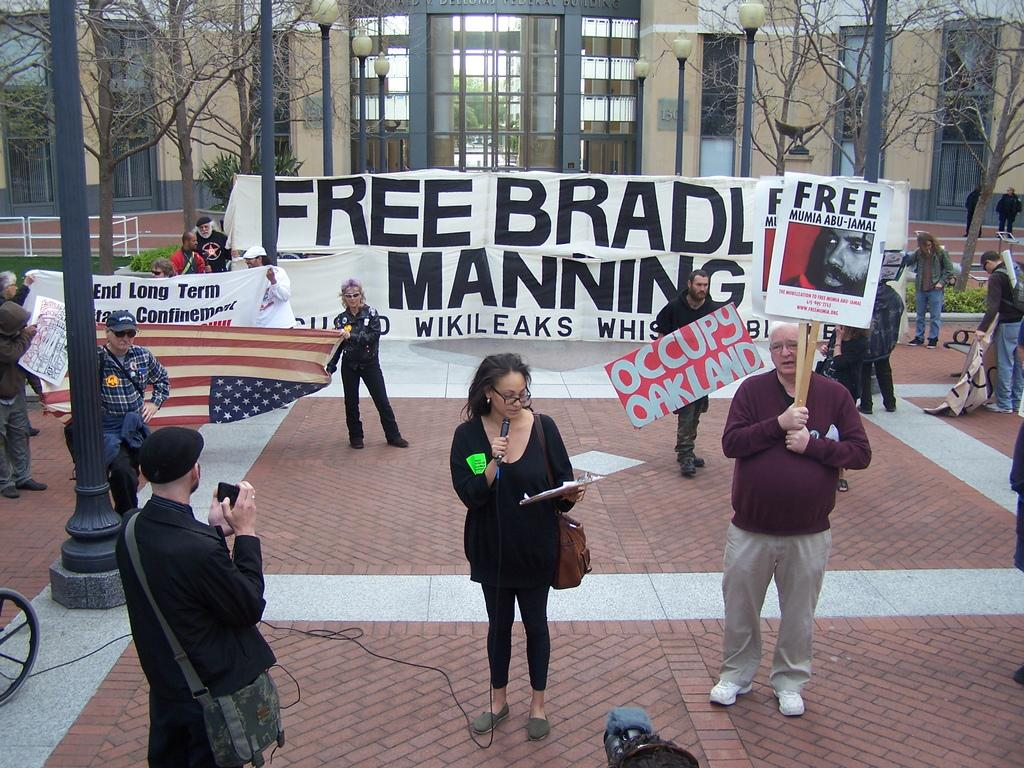Sem Máscara: (806, 226, 873, 293), (491, 368, 525, 420), (766, 325, 796, 378), (107, 329, 135, 350), (687, 274, 706, 304), (341, 283, 359, 305), (916, 235, 931, 251), (149, 260, 163, 277), (197, 220, 211, 235), (979, 261, 993, 276), (186, 232, 198, 248), (4, 276, 15, 293), (244, 256, 259, 267)
